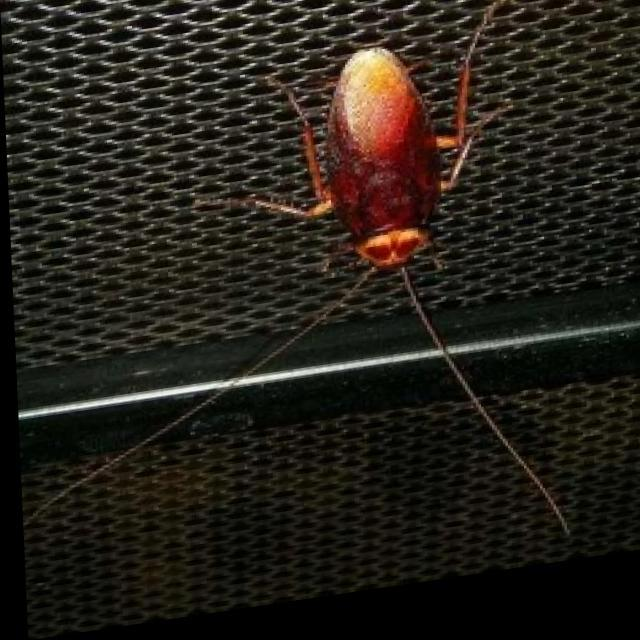cockroach: (235, 9, 519, 345)
